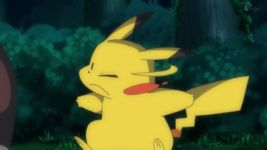pikachu: (67, 10, 253, 150)
